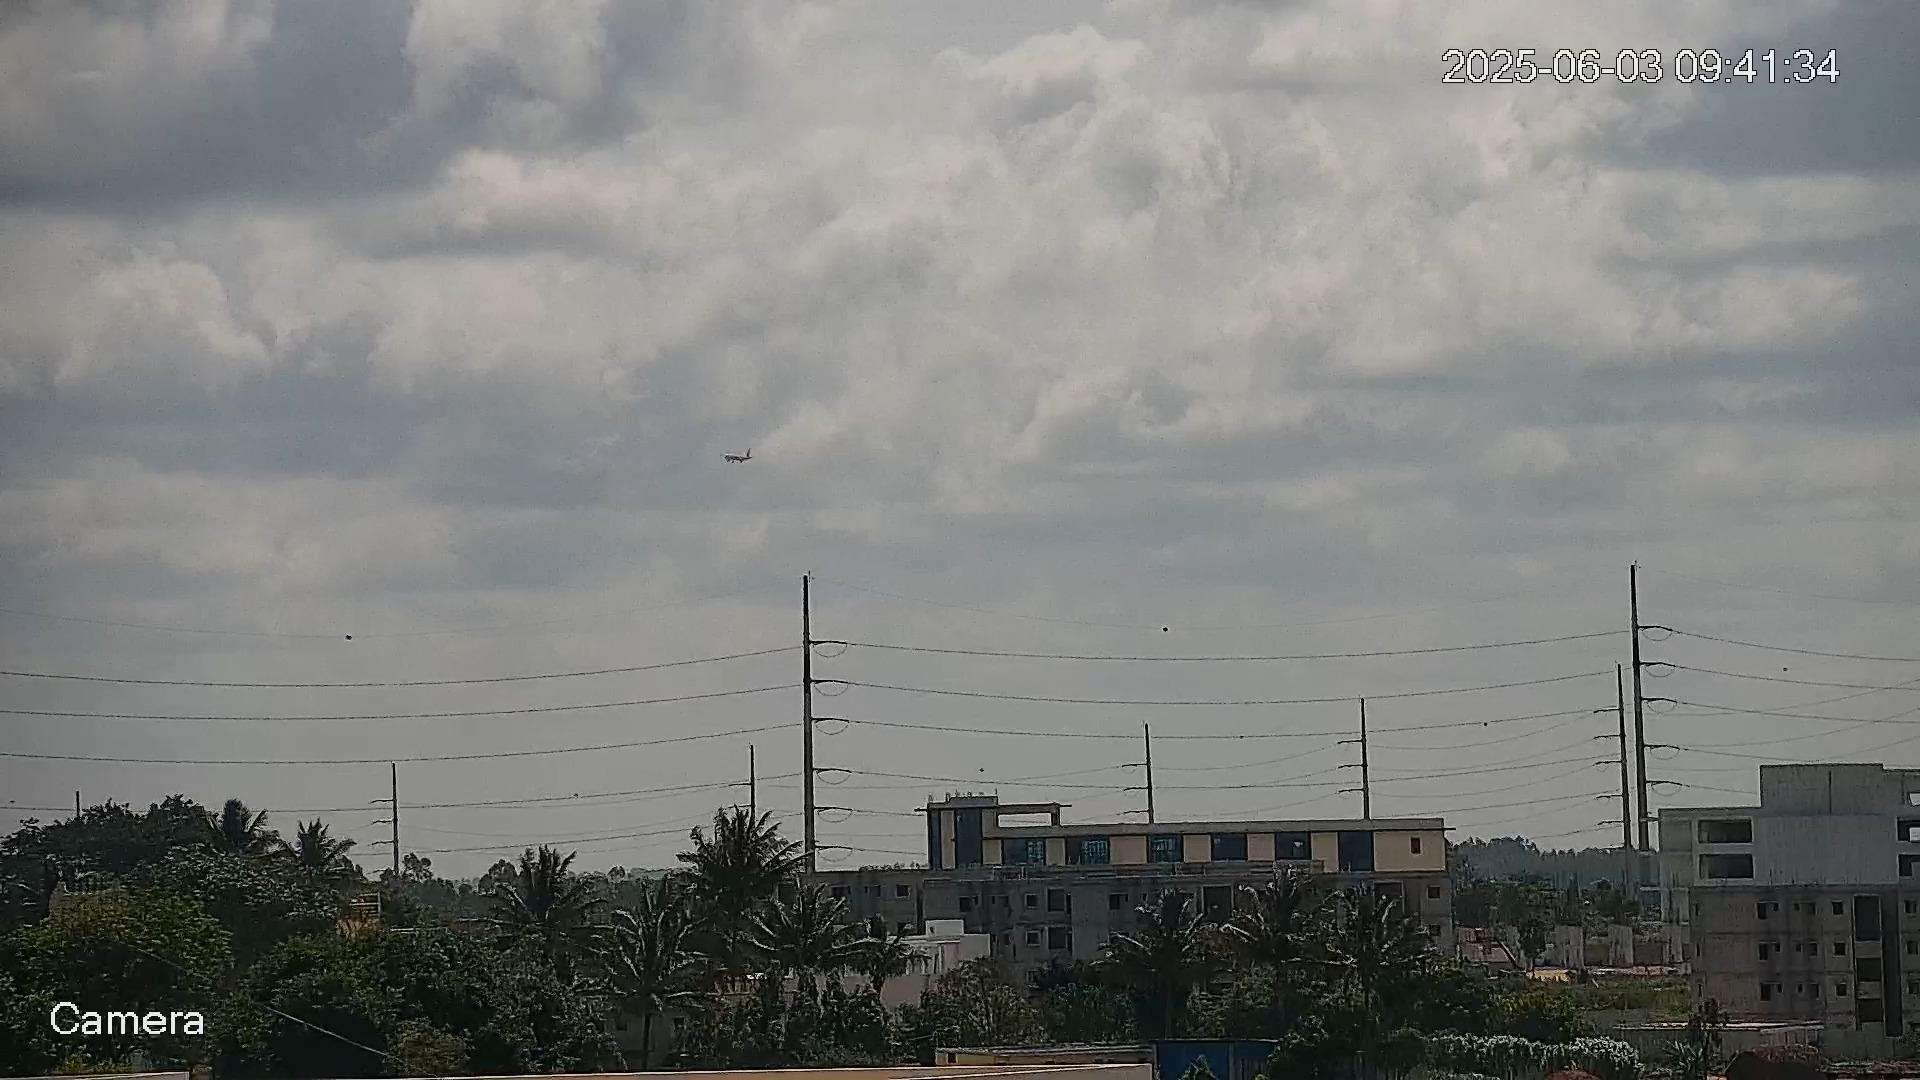Aircraft: (724, 444, 758, 465)
